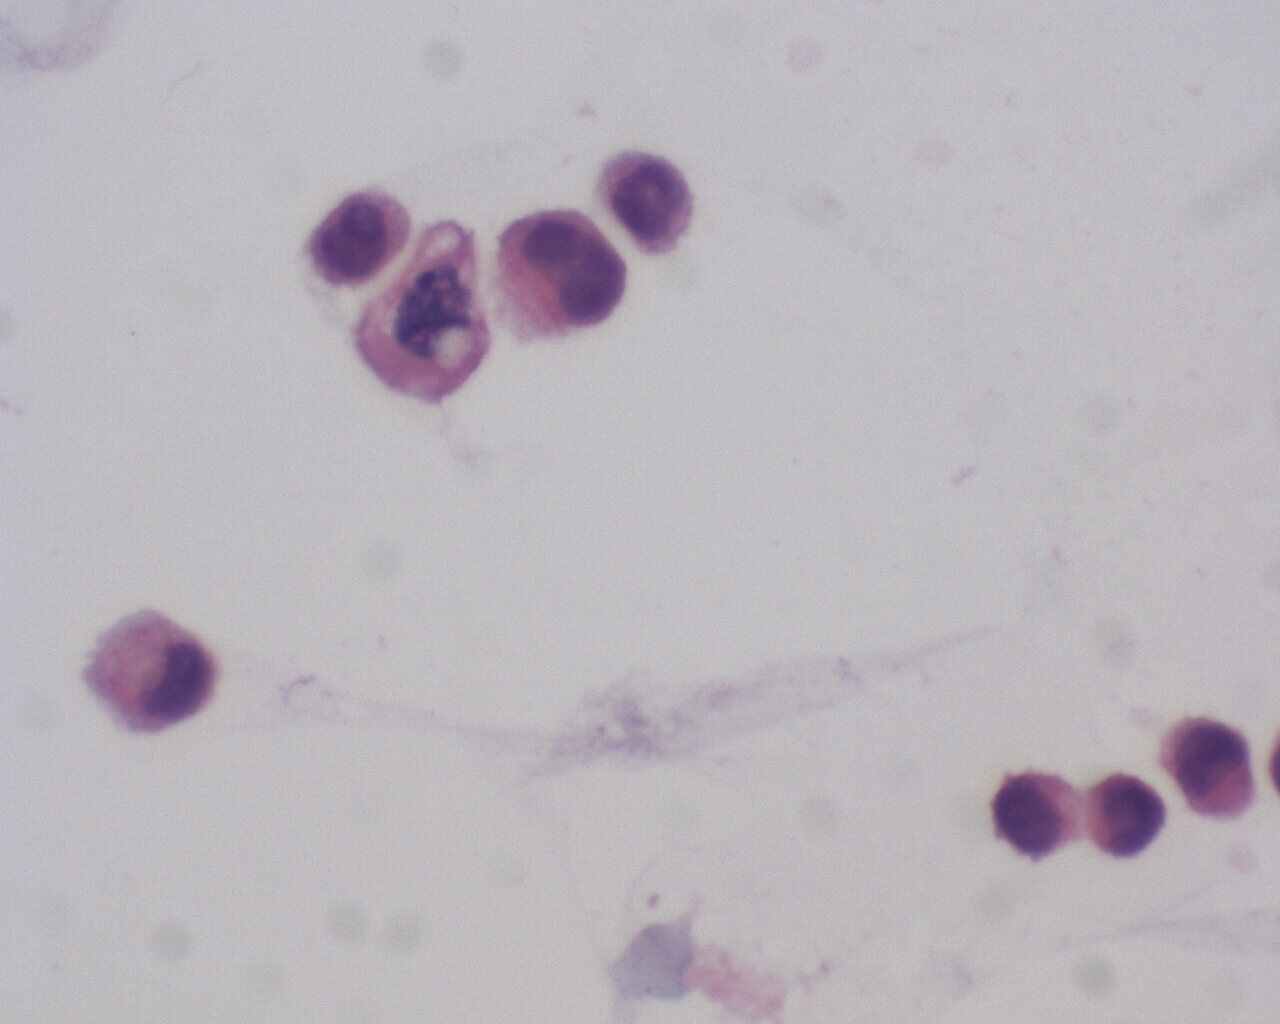ab: (350, 219, 490, 410), (496, 202, 634, 350), (601, 145, 704, 267), (1163, 707, 1265, 823), (303, 184, 417, 284), (990, 765, 1080, 869), (1083, 766, 1168, 865)
